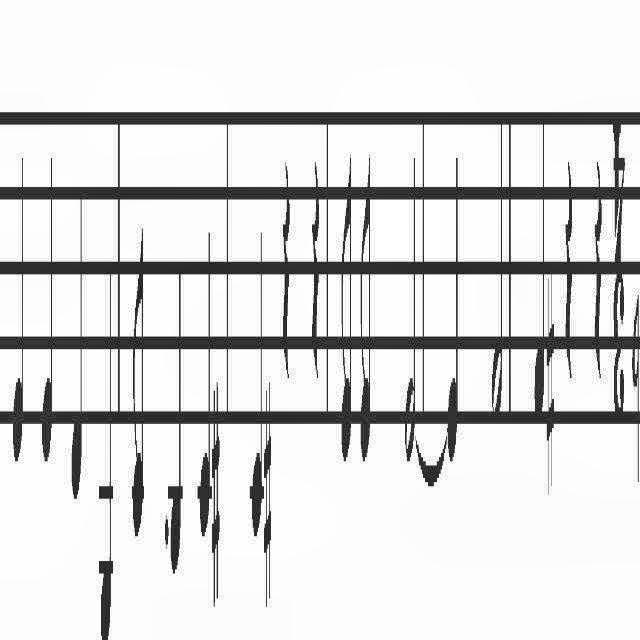Bemol: (632, 287, 640, 503)
Diez: (546, 262, 556, 506), (264, 367, 272, 617), (212, 371, 220, 617)
Eighth-note: (132, 214, 146, 550), (359, 141, 371, 483), (340, 144, 352, 474)
Half-note: (402, 150, 418, 473), (492, 122, 504, 432)
Quarter-note: (99, 266, 113, 640), (198, 218, 212, 550), (532, 115, 546, 425), (41, 141, 54, 467), (448, 140, 460, 473), (252, 221, 264, 554), (170, 268, 182, 588), (12, 150, 24, 470), (70, 192, 82, 506)
Quarter-rest: (592, 147, 604, 397), (563, 157, 573, 387), (310, 156, 320, 384), (282, 157, 290, 387)
